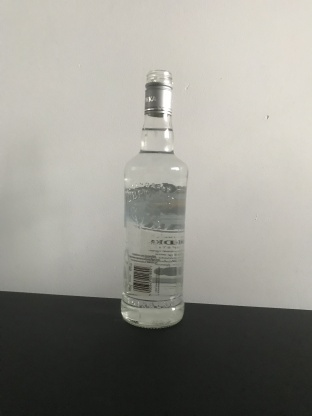nakretka: (143, 67, 174, 119)
